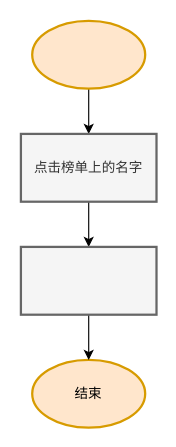
The diagram is 176 pixels wide and 447 high, and some of its shapes have lost their labels. Each missing label, with the centre of its shape:
开始: the point at 88,54
跳转到对应连接: the point at 88,280
